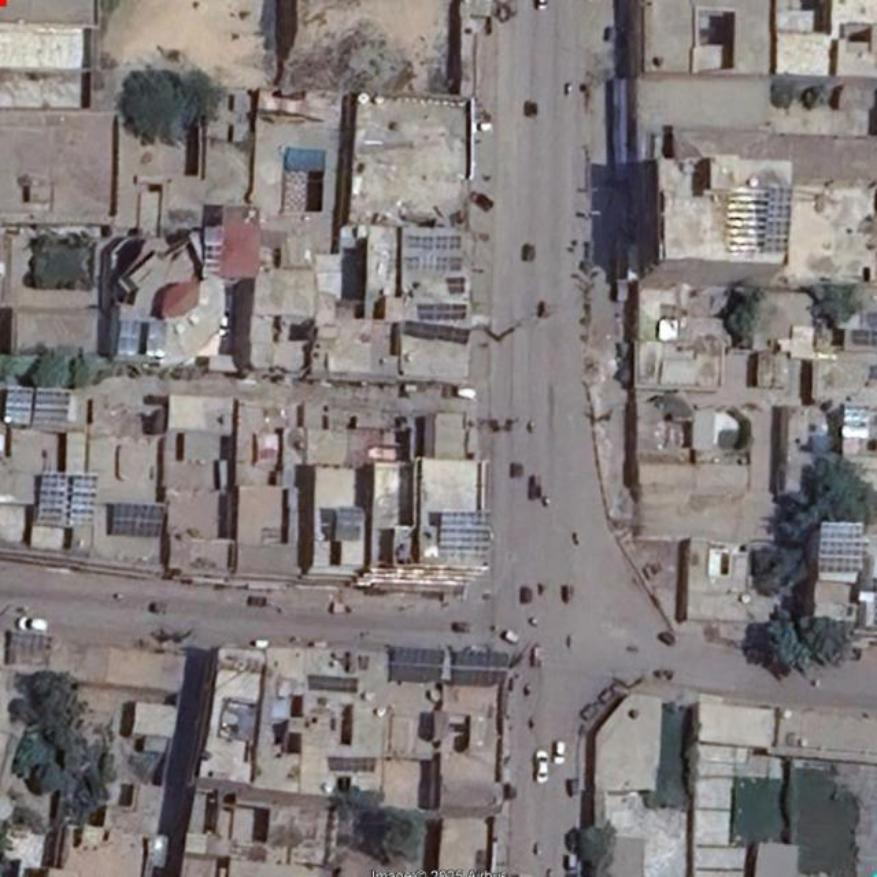Solarpanel: (34, 473, 97, 531), (2, 387, 72, 423), (439, 509, 491, 553), (819, 524, 864, 572), (388, 647, 444, 683), (451, 650, 510, 684), (110, 505, 165, 539), (404, 321, 469, 346), (765, 188, 790, 249), (839, 403, 868, 437), (416, 304, 467, 320), (308, 676, 358, 692), (328, 757, 379, 771)
